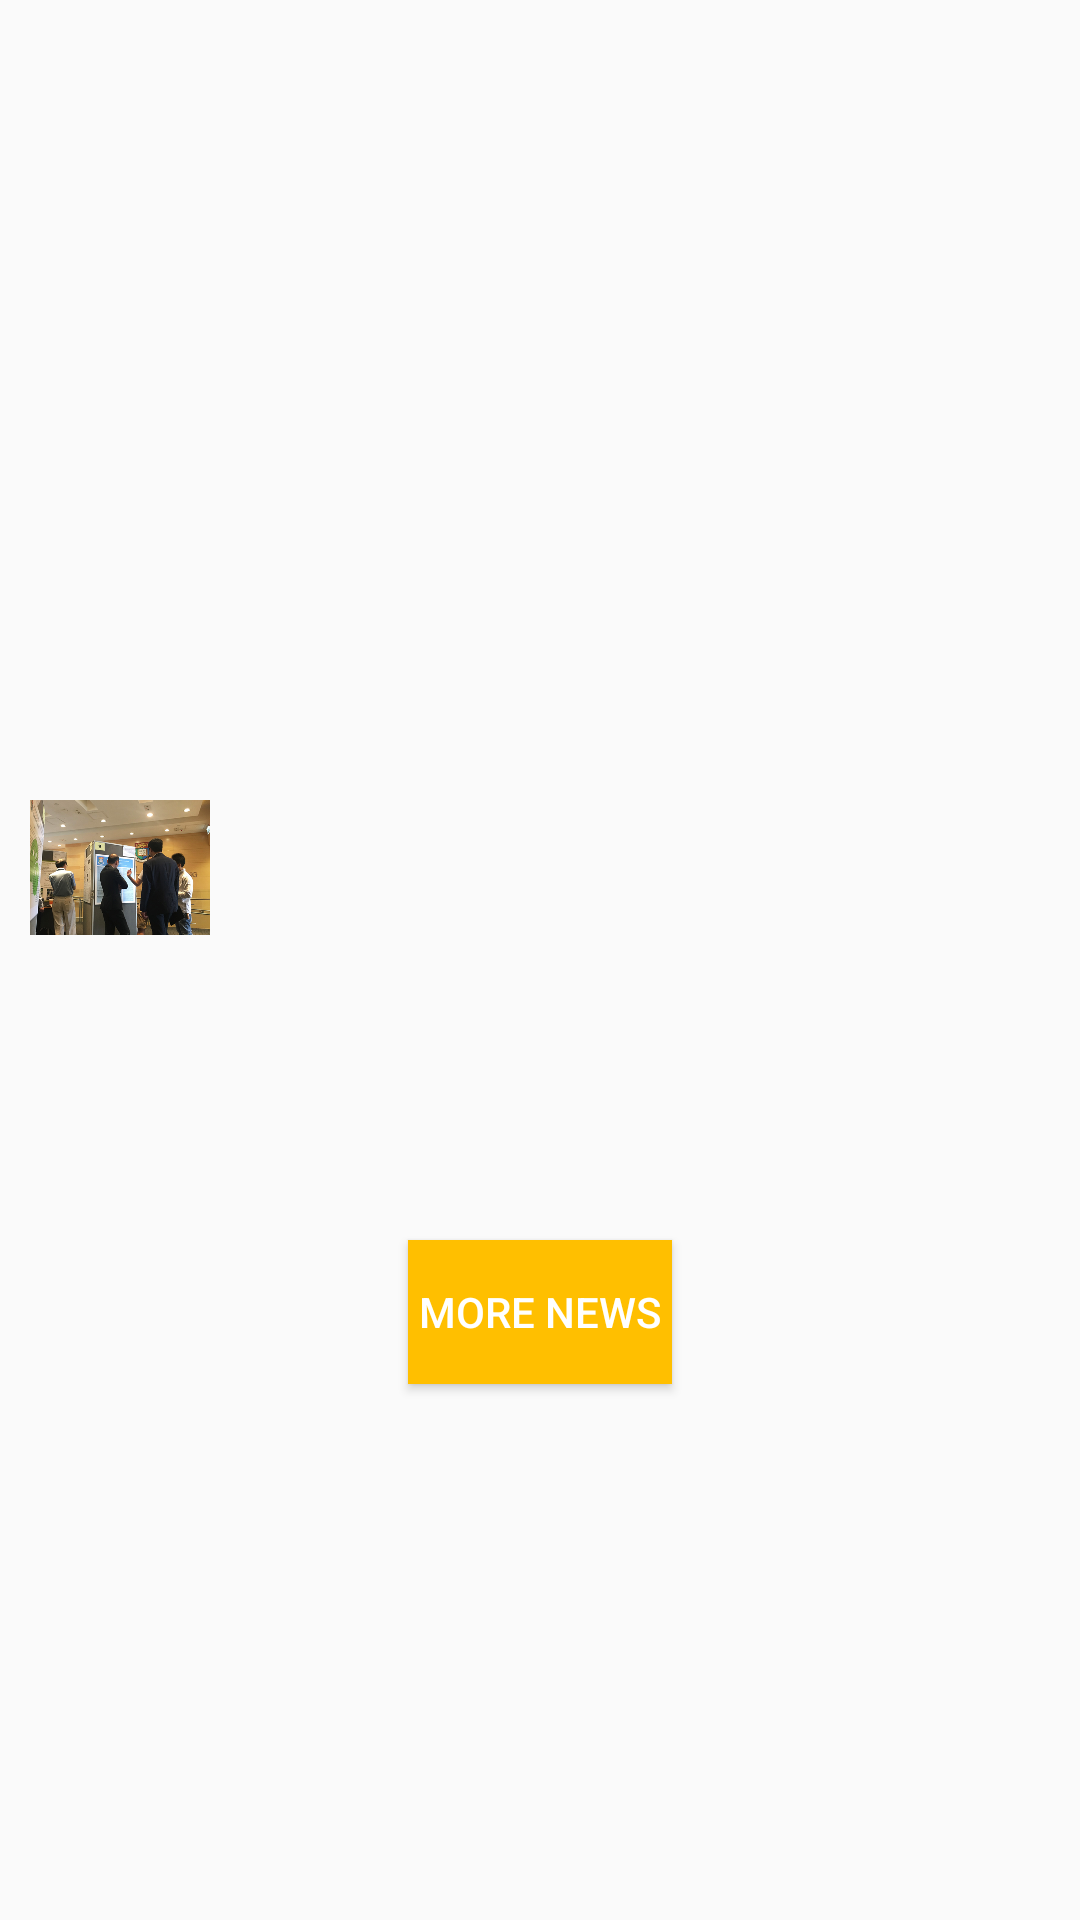

Icons on this 1080 × 1920 Android screen, each with the point to tap as (x=x, y=y):
posterexhibition jul: (x=120, y=867)
